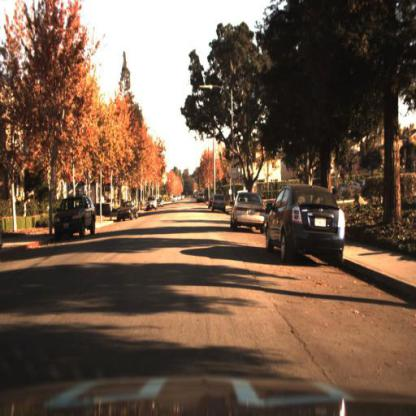car: (264, 179, 351, 270), (264, 182, 353, 261), (50, 190, 98, 248), (229, 181, 269, 236), (51, 191, 96, 238), (229, 189, 269, 235), (118, 198, 140, 225), (212, 190, 230, 216), (145, 198, 160, 214), (159, 196, 167, 211)
